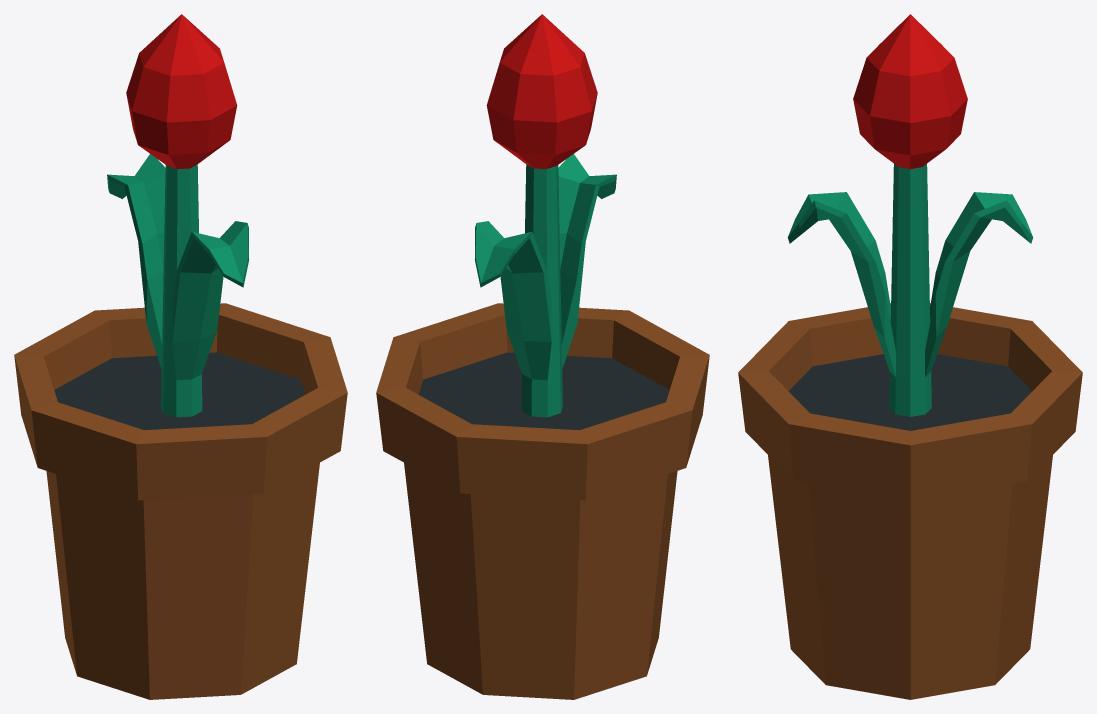
The model's file is flower.fbx.
3 views of the same model, side by side, from view 1: azimuth 30°, elevation 25°; view 2: azimuth 150°, elevation 25°; view 3: azimuth 270°, elevation 25° (orthographic).
Parts seen in each view (by area): view 1: kvitka; view 2: kvitka; view 3: kvitka.
Boxes of the visible parts, x1=… form: kvitka: x1=14, y1=14, x2=347, y2=699; kvitka: x1=376, y1=14, x2=709, y2=699; kvitka: x1=738, y1=14, x2=1082, y2=699.
Size of the model in its own units: 49.87 by 101 by 49.87.
1 material, 1 textured.
